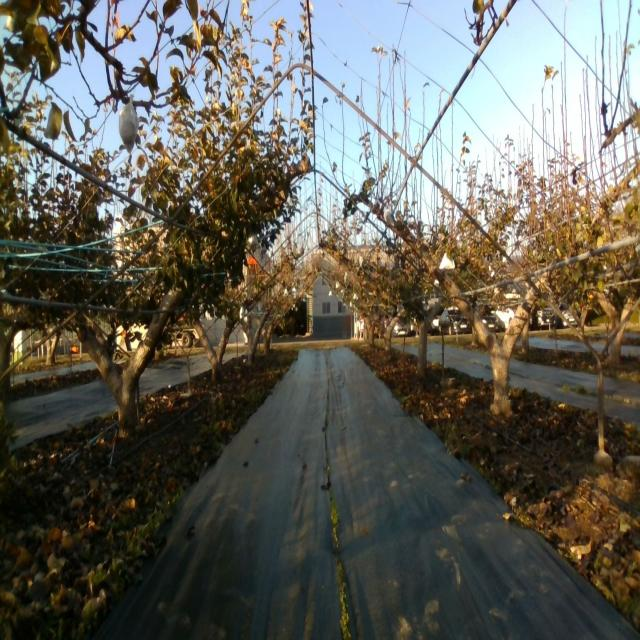pearbags: (119, 94, 139, 156), (439, 252, 456, 270), (246, 228, 258, 250), (384, 209, 394, 227)
